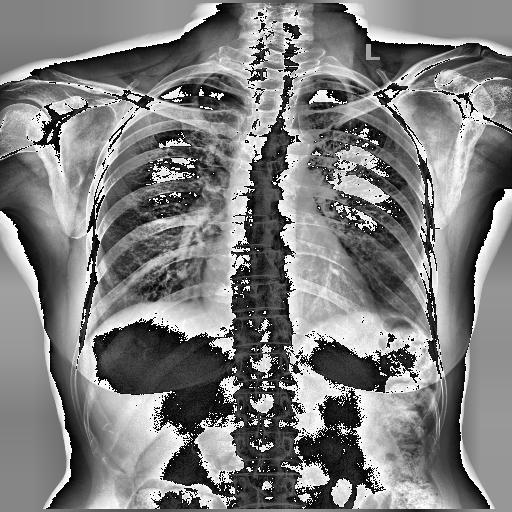0- Aortic enlargement: (277, 128, 313, 159)
11- Pleural thickening: (306, 72, 350, 81)
13- Pulmonary fibrosis: (311, 126, 417, 220)
9- Other lesion: (226, 90, 293, 266)
